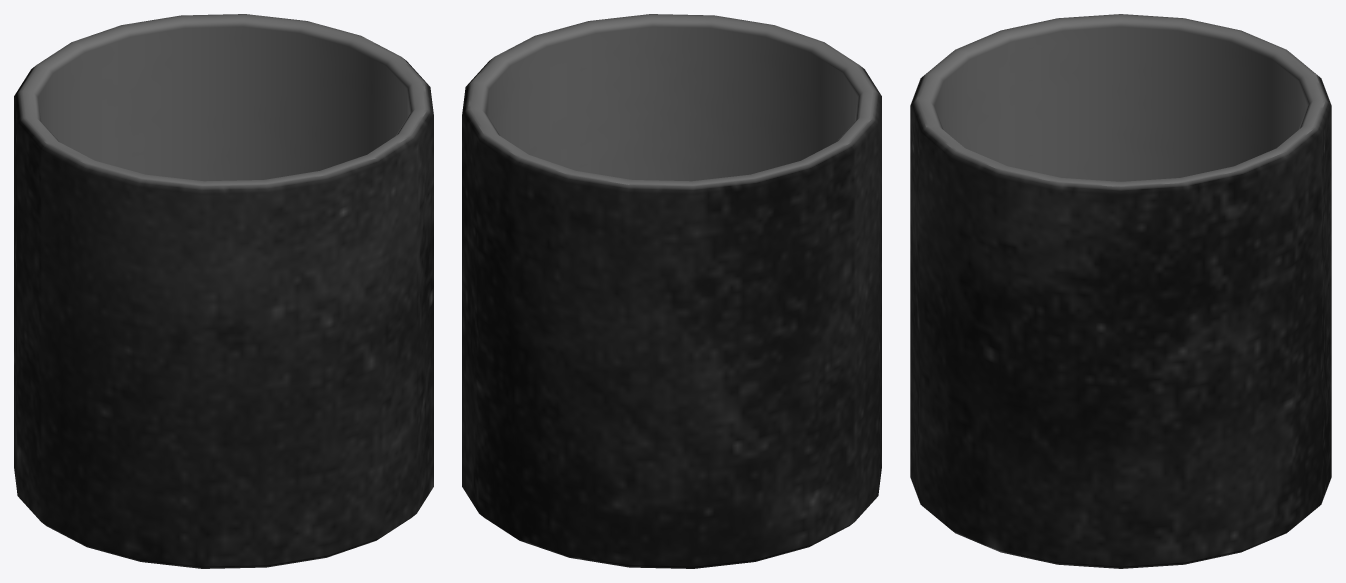
File: SM_Pen_Pot.fbx
3 views of the same model, side by side, from view 1: azimuth 30°, elevation 25°; view 2: azimuth 150°, elevation 25°; view 3: azimuth 270°, elevation 25° (orthographic).
Parts seen in each view (by area): view 1: SM_Pen_Pot_LOD0; view 2: SM_Pen_Pot_LOD0; view 3: SM_Pen_Pot_LOD0.
Part boxes in pixels (<box>): SM_Pen_Pot_LOD0: <box>14,14,433,568</box>; SM_Pen_Pot_LOD0: <box>462,14,881,568</box>; SM_Pen_Pot_LOD0: <box>910,14,1331,568</box>.
Bounding box in the file's own units: 7.06 × 7.06 × 7.06.
1 material, 1 textured.
